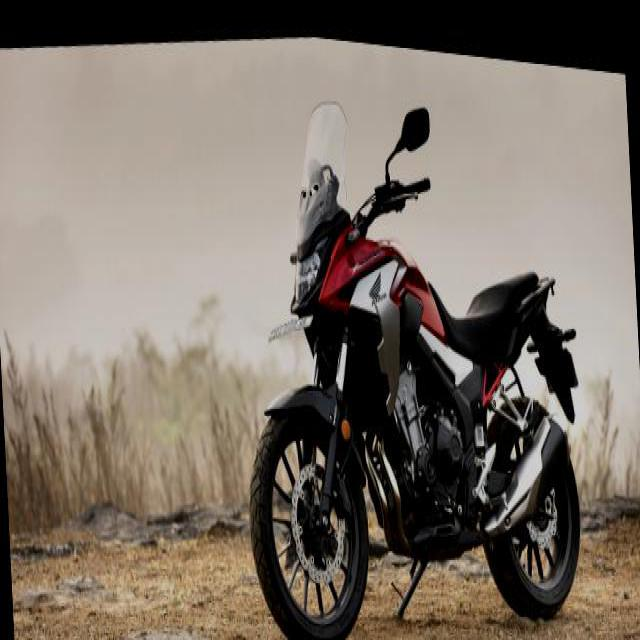CB500X: (229, 44, 589, 638)
